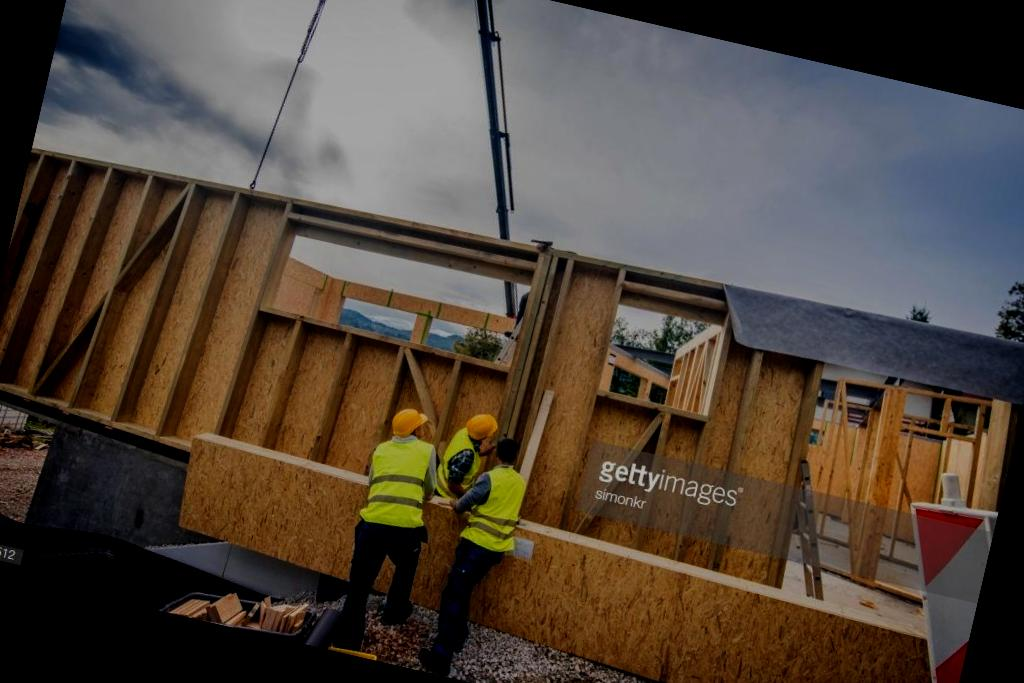person: (328, 400, 461, 663), (425, 432, 550, 683)
